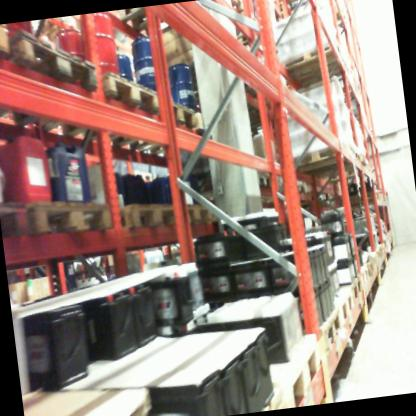pallet: (18, 64, 169, 169), (0, 20, 109, 146), (112, 0, 261, 63), (248, 328, 331, 409), (29, 180, 124, 246), (270, 33, 355, 106), (152, 81, 204, 156), (289, 298, 347, 363), (280, 131, 357, 179), (119, 188, 182, 242), (185, 104, 235, 152), (0, 193, 38, 245), (178, 191, 218, 234), (323, 281, 356, 329), (310, 150, 365, 173), (336, 267, 367, 298), (337, 188, 382, 209), (253, 168, 279, 193), (0, 26, 17, 57), (358, 258, 377, 281), (354, 266, 368, 288), (361, 149, 373, 174)
